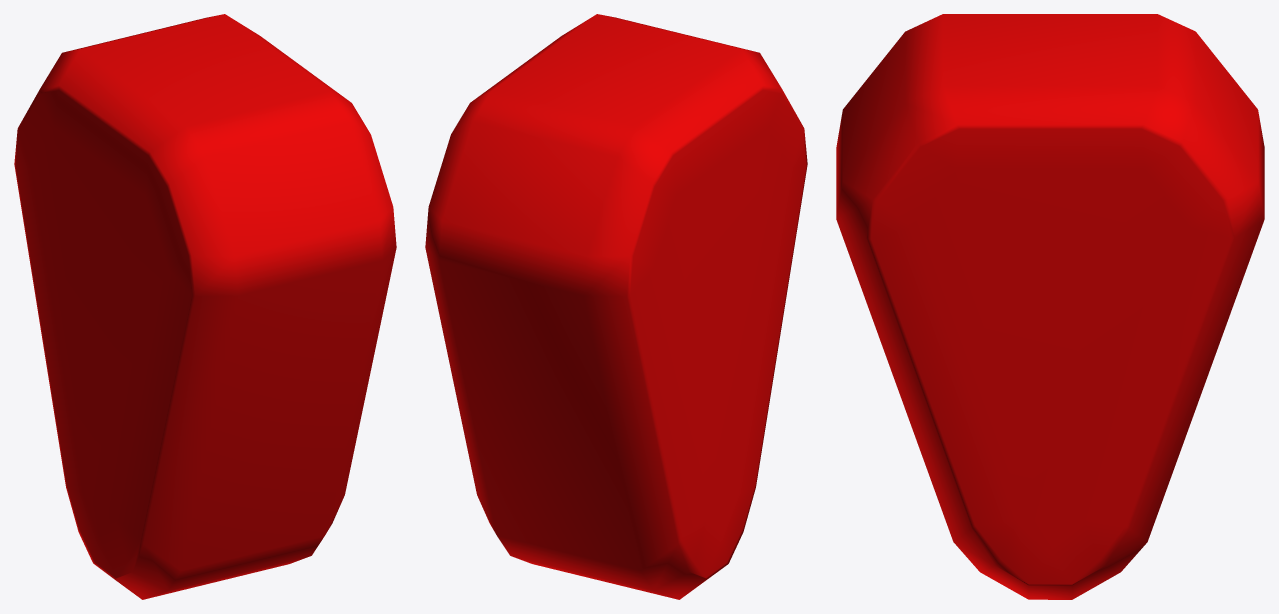
Rendered from Shield.fbx.
3 views of the same model, side by side, from view 1: azimuth 30°, elevation 25°; view 2: azimuth 150°, elevation 25°; view 3: azimuth 270°, elevation 25° (orthographic).
Visible parts, largest first — view 1: pCube30; view 2: pCube30; view 3: pCube30.
Part boxes in pixels (box(x1,y1,x2,y2)): pCube30: box(14, 14, 396, 599); pCube30: box(425, 14, 807, 599); pCube30: box(836, 14, 1264, 599).
Size of the model in its own units: 0.4752 by 1.08 by 0.8156.
